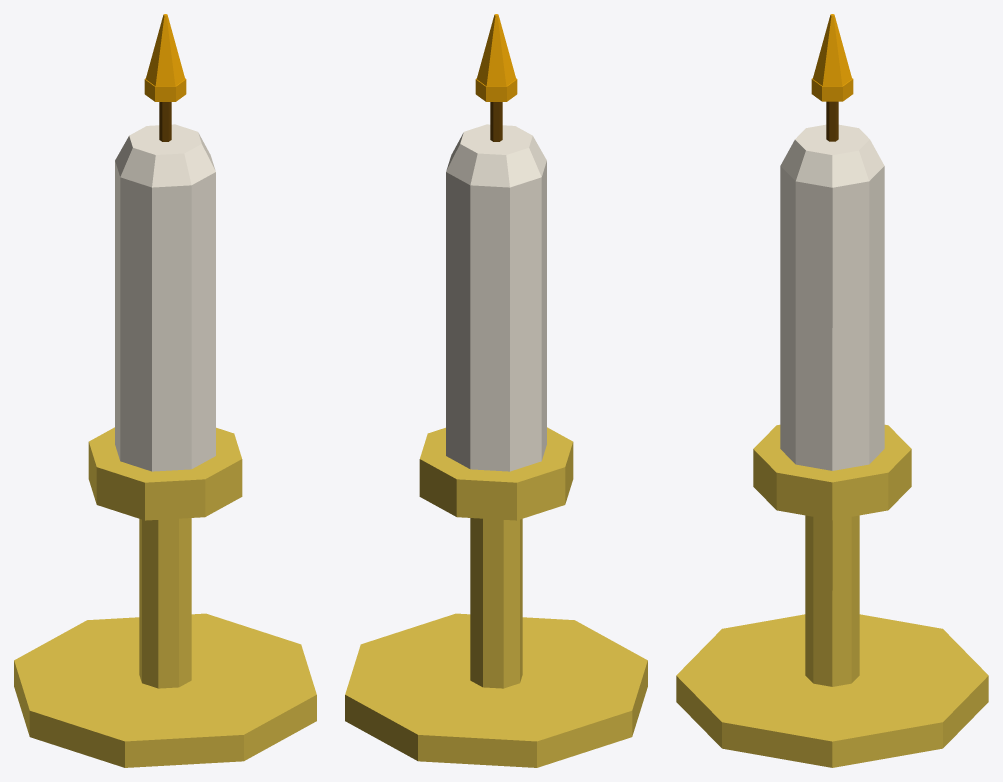
File: CandleStick.fbx
The picture shows the model from 3 angles, left to right: view 1: azimuth 30°, elevation 25°; view 2: azimuth 150°, elevation 25°; view 3: azimuth 270°, elevation 25°; orthographic projection.
Parts seen in each view (by area): view 1: CandleStick_Base, CandleStick_WaxBody, CandleStick_Cup, CandleStick_Stem, CandleStick_WaxTop, CandleStick_FlameTip, CandleStick_FlameBase; view 2: CandleStick_Base, CandleStick_WaxBody, CandleStick_Cup, CandleStick_Stem, CandleStick_WaxTop, CandleStick_FlameTip, CandleStick_FlameBase; view 3: CandleStick_Base, CandleStick_WaxBody, CandleStick_Stem, CandleStick_Cup, CandleStick_WaxTop, CandleStick_FlameTip, CandleStick_FlameBase.
Boxes of the visible parts, x1,y1,x2,y2 form: CandleStick_Base: (14,613,316,767); CandleStick_WaxBody: (115,161,215,471); CandleStick_Cup: (88,427,242,520); CandleStick_Stem: (139,518,191,688); CandleStick_WaxTop: (115,124,215,187); CandleStick_FlameTip: (145,14,185,86); CandleStick_FlameBase: (144,78,186,101); CandleStick_Base: (345,613,647,767); CandleStick_WaxBody: (446,161,546,471); CandleStick_Cup: (419,427,573,520); CandleStick_Stem: (470,518,522,688); CandleStick_WaxTop: (446,124,546,187); CandleStick_FlameTip: (476,14,516,86); CandleStick_FlameBase: (475,78,517,101); CandleStick_Base: (676,614,988,767); CandleStick_WaxBody: (780,166,884,470); CandleStick_Stem: (805,515,859,686); CandleStick_Cup: (753,424,911,519); CandleStick_WaxTop: (780,124,884,187); CandleStick_FlameTip: (813,14,851,86); CandleStick_FlameBase: (811,78,853,101).
Size of the model in its own units: 62.5 by 152 by 62.5.
